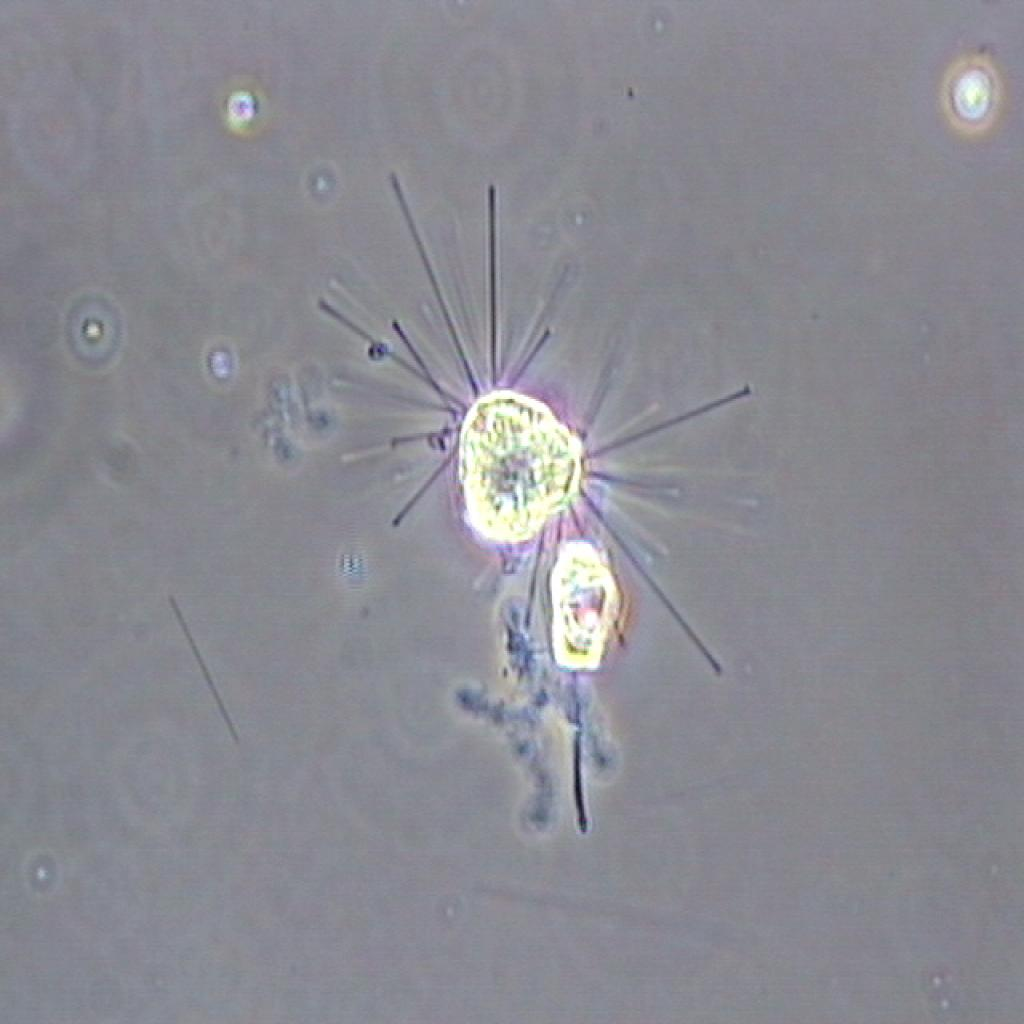Suctorida: (312, 222, 757, 535)
